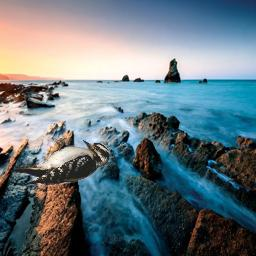Woodpecker: (8, 138, 116, 189)
